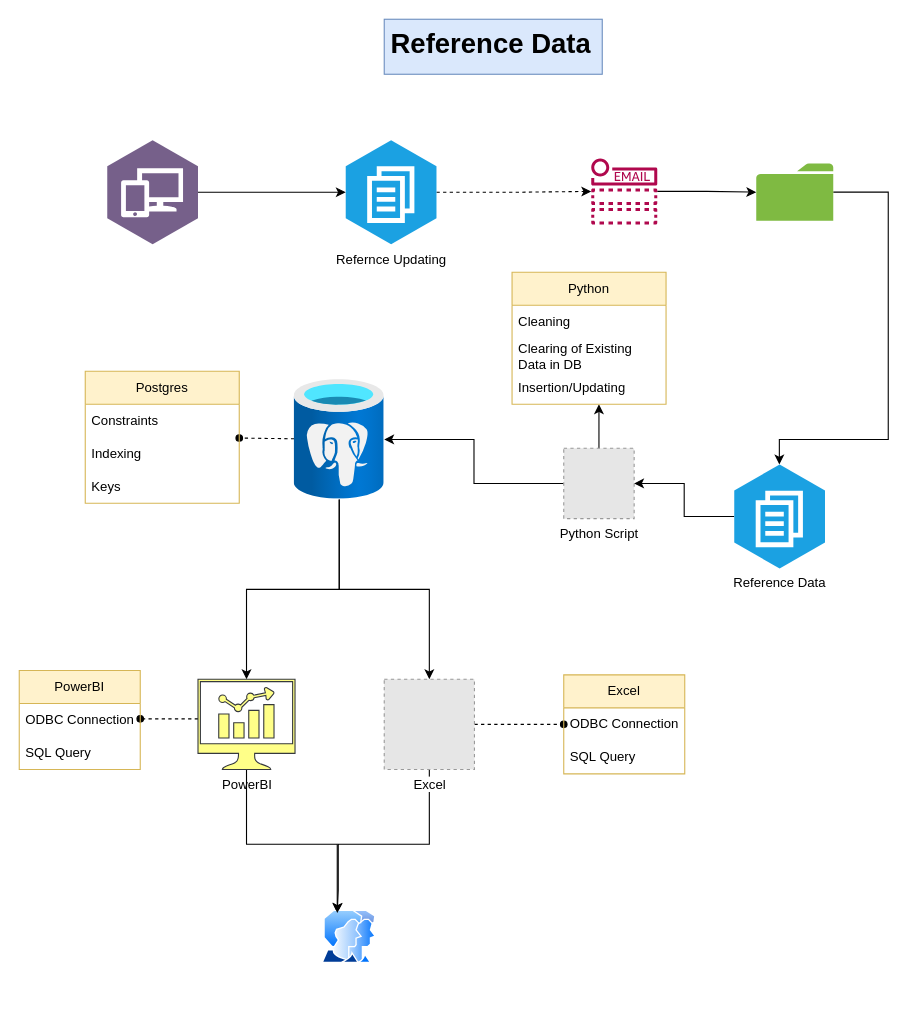
Some shapes in this 916 by 1009 pixel diagram are drawn without their labels. Grey dashed boxes stand in for pictures. The centre of each missing label's shape, as x and y in pixels:
Email Notification BI Inbox: the point at 624,191
Postgres Database: the point at 339,439
Storage On BI Drives: the point at 794,191
User: the point at 348,936
Xplan: the point at 152,191
